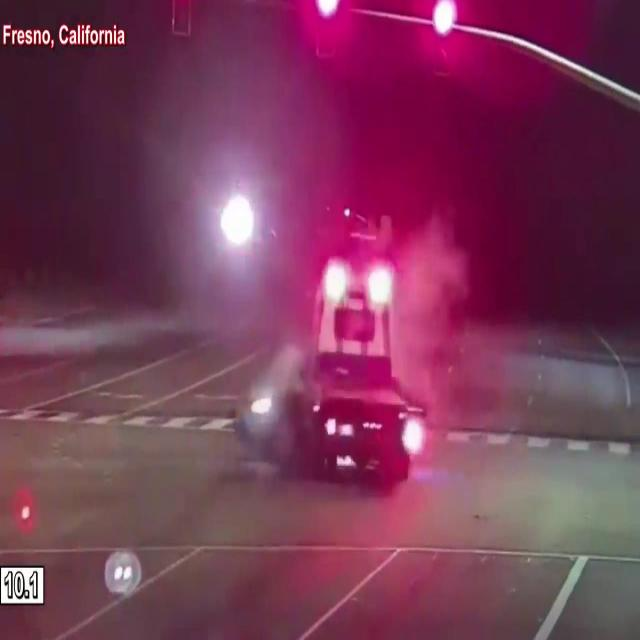accident: (227, 237, 435, 511)
